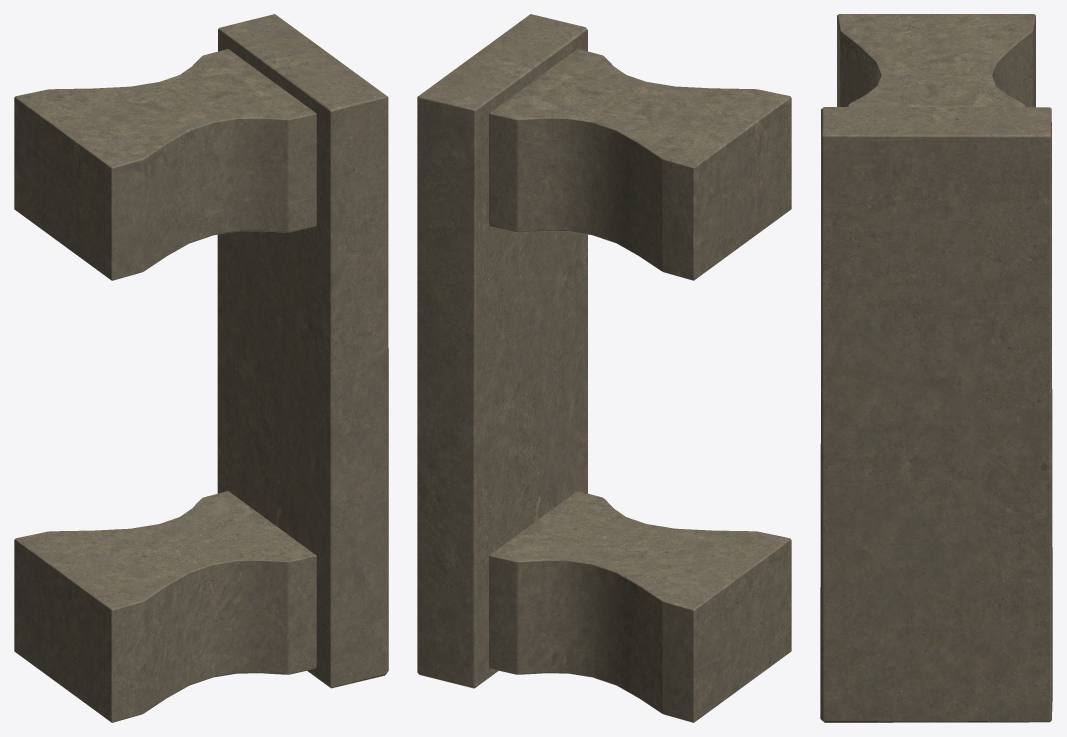
The model's file is cP_Bench10.dae.
The picture shows the model from 3 angles, left to right: view 1: azimuth 30°, elevation 25°; view 2: azimuth 150°, elevation 25°; view 3: azimuth 270°, elevation 25°; orthographic projection.
Parts seen in each view (by area): view 1: cP_Bench10.001; view 2: cP_Bench10.001; view 3: cP_Bench10.001.
Part boxes in pixels (box(x1,y1,x2,y2)): cP_Bench10.001: box(14, 14, 388, 722); cP_Bench10.001: box(417, 14, 791, 722); cP_Bench10.001: box(820, 14, 1052, 722).
Bounding box in the file's own units: 0.4916 × 0.3597 × 1.01.
